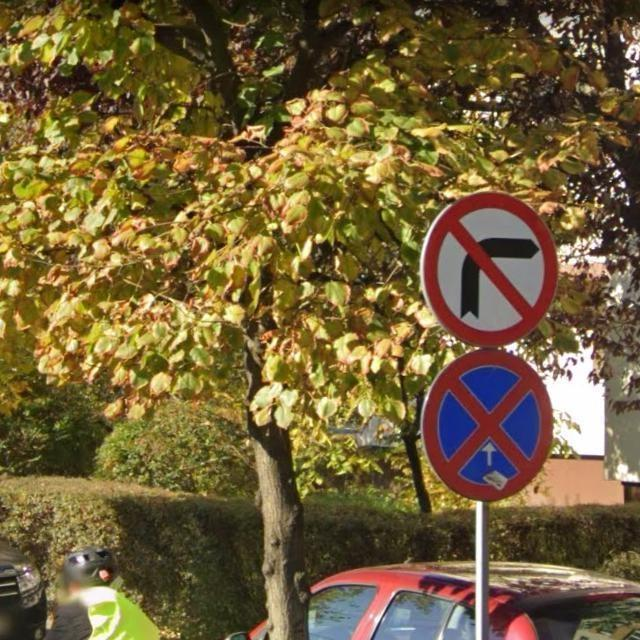forb_waiting: (420, 348, 552, 501)
